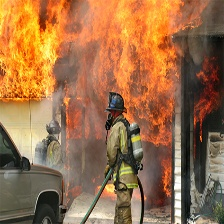fire: (1, 1, 224, 203)
